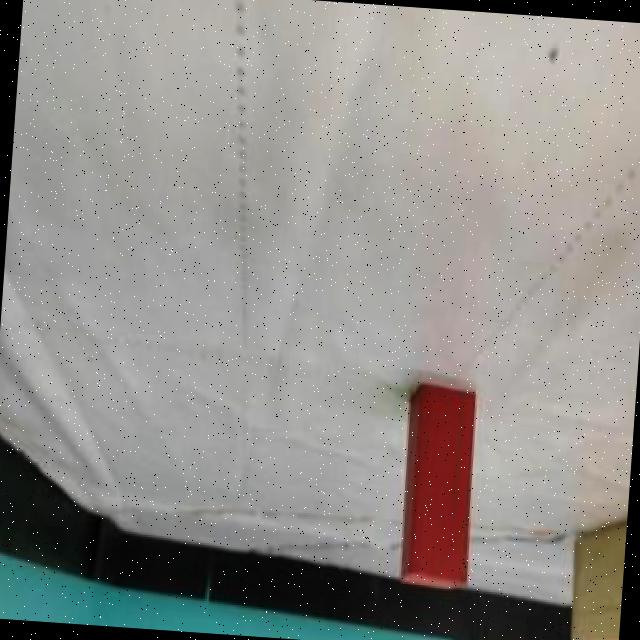redbox: (393, 382, 480, 589)
